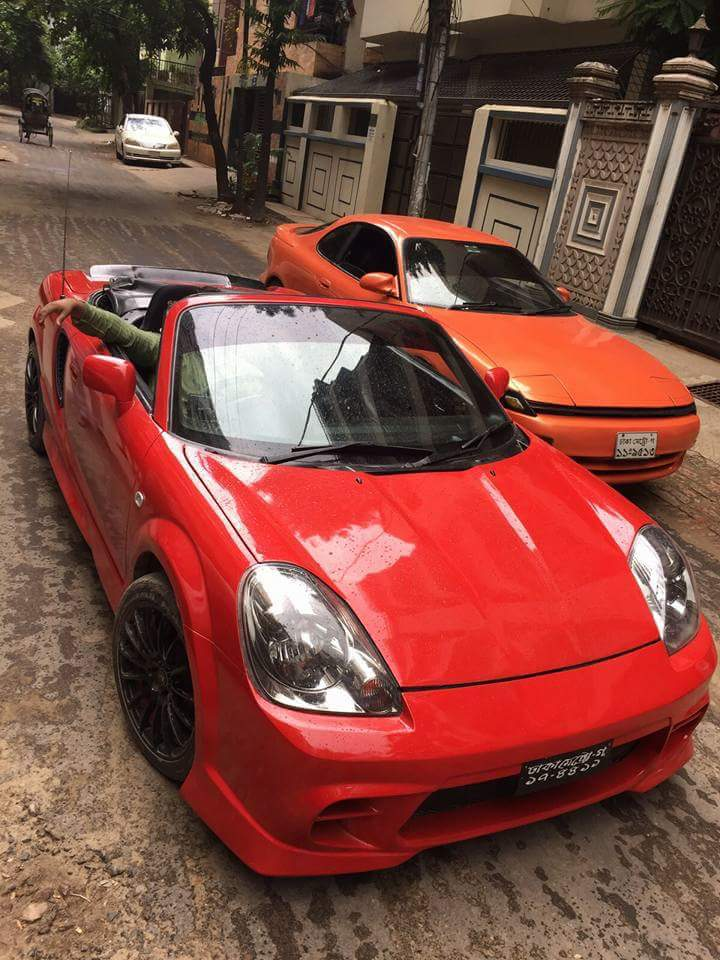registration_plate: (519, 739, 613, 788), (615, 431, 657, 458)
